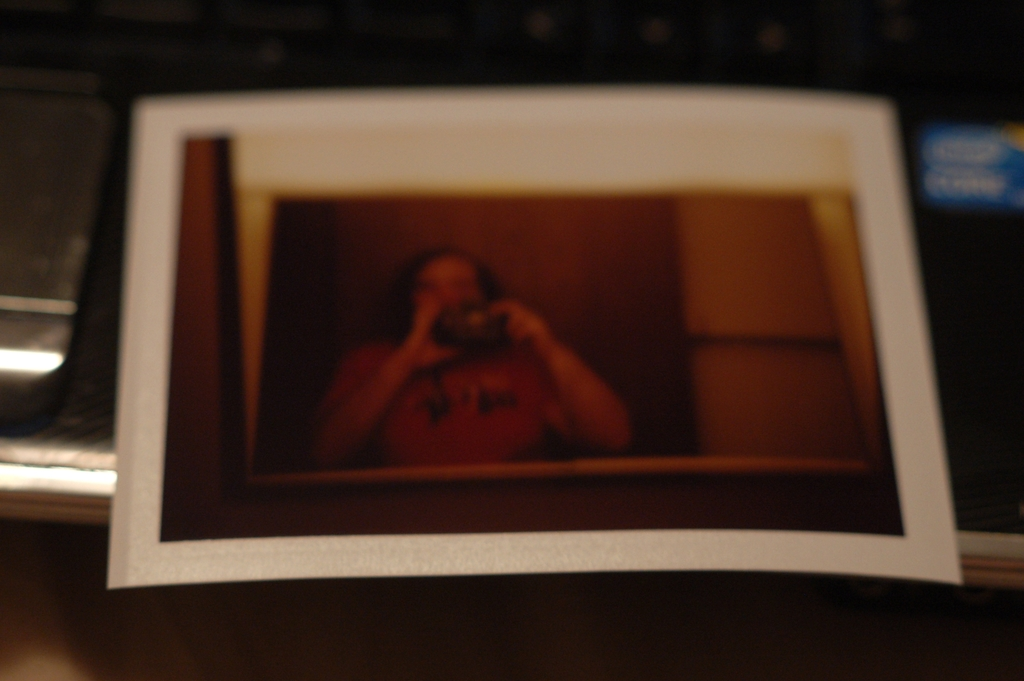face: (394, 263, 506, 345)
person: (309, 248, 634, 470)
